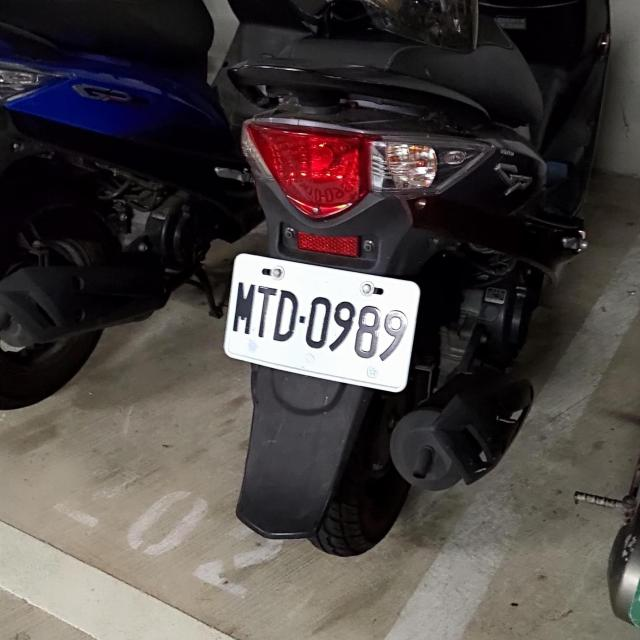W: (217, 249, 422, 393)
